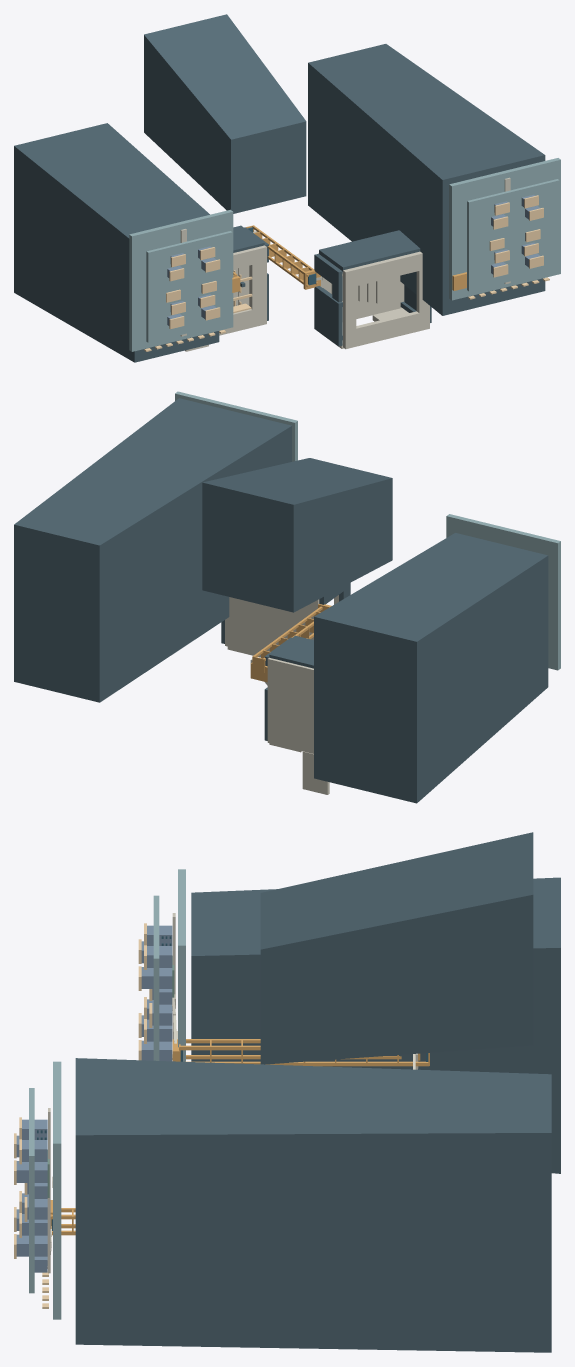
File: M3D1S_J6_UPPER_EAST.obj
3 renders of one model, top to bottom at view 1: azimuth 30°, elevation 25°; view 2: azimuth 150°, elevation 25°; view 3: azimuth 270°, elevation 25°, orthographic. The views are drawn at different scales.
Parts seen in each view (by area): view 1: EAST_CITY_MASS, WEST_CITY_MASS, NORTH_DIAGONAL_CITY_SUPPORT, EAST_LIVING_TERRACE_LEVEL_2, WEST_LIVING_TERRACE_LEVEL_2, WEST_LIVING_TERRACE_MAIN_FLOOR, EAST_LIVING_TERRACE_MAIN_FLOOR, P2_NORTH_WALL, P2_ROOF_S, P2_ROOF_N, P2_WEST_WALL_SOUTH, P2_CIVIC_FLOOR (+6 smaller); view 2: EAST_CITY_MASS, WEST_CITY_MASS, NORTH_DIAGONAL_CITY_SUPPORT, P1_CIVIC_FLOOR, WEST_LIVING_TERRACE_MAIN_FLOOR, P2_CIVIC_FLOOR, EAST_LIVING_TERRACE_MAIN_FLOOR, P1_NORTH_WALL_EAST, P1_PUBLIC_APPROACH; view 3: EAST_CITY_MASS, NORTH_DIAGONAL_CITY_SUPPORT, WEST_CITY_MASS, EAST_LIVING_TERRACE_MAIN_FLOOR, WEST_LIVING_TERRACE_MAIN_FLOOR, EAST_LIVING_TERRACE_LEVEL_2, WEST_LIVING_TERRACE_LEVEL_2, LIFT_W_COLUMN_1_-1.
Boxes of the visible parts, left/top/right/bottom form: EAST_CITY_MASS: left=308, top=44, right=545, bottom=315; WEST_CITY_MASS: left=14, top=123, right=219, bottom=362; NORTH_DIAGONAL_CITY_SUPPORT: left=144, top=14, right=306, bottom=213; EAST_LIVING_TERRACE_LEVEL_2: left=467, top=179, right=559, bottom=291; WEST_LIVING_TERRACE_LEVEL_2: left=146, top=231, right=232, bottom=342; WEST_LIVING_TERRACE_MAIN_FLOOR: left=129, top=209, right=233, bottom=351; EAST_LIVING_TERRACE_MAIN_FLOOR: left=449, top=158, right=560, bottom=300; P2_NORTH_WALL: left=319, top=230, right=420, bottom=271; P2_ROOF_S: left=343, top=311, right=429, bottom=349; P2_ROOF_N: left=343, top=251, right=422, bottom=288; P2_WEST_WALL_SOUTH: left=314, top=286, right=342, bottom=346; P2_CIVIC_FLOOR: left=318, top=253, right=404, bottom=321; EAST_CITY_MASS: left=14, top=398, right=291, bottom=702; WEST_CITY_MASS: left=314, top=533, right=548, bottom=803; NORTH_DIAGONAL_CITY_SUPPORT: left=202, top=458, right=392, bottom=612; P1_CIVIC_FLOOR: left=267, top=657, right=313, bottom=753; WEST_LIVING_TERRACE_MAIN_FLOOR: left=446, top=514, right=560, bottom=670; P2_CIVIC_FLOOR: left=225, top=597, right=319, bottom=653; EAST_LIVING_TERRACE_MAIN_FLOOR: left=175, top=391, right=297, bottom=461; P1_NORTH_WALL_EAST: left=269, top=635, right=313, bottom=668; P1_PUBLIC_APPROACH: left=302, top=751, right=329, bottom=794; EAST_CITY_MASS: left=75, top=1058, right=551, bottom=1352; NORTH_DIAGONAL_CITY_SUPPORT: left=260, top=832, right=533, bottom=1064; WEST_CITY_MASS: left=191, top=877, right=560, bottom=1173; EAST_LIVING_TERRACE_MAIN_FLOOR: left=53, top=1061, right=61, bottom=1319; WEST_LIVING_TERRACE_MAIN_FLOOR: left=178, top=869, right=185, bottom=1061; EAST_LIVING_TERRACE_LEVEL_2: left=29, top=1088, right=34, bottom=1293; WEST_LIVING_TERRACE_LEVEL_2: left=153, top=895, right=159, bottom=1060; LIFT_W_COLUMN_1_-1: left=185, top=1061, right=428, bottom=1066.
Size of the model in its own units: 2990 by 2140 by 2367.
